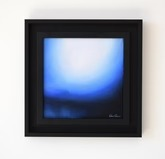painting: (43, 36, 124, 119)
